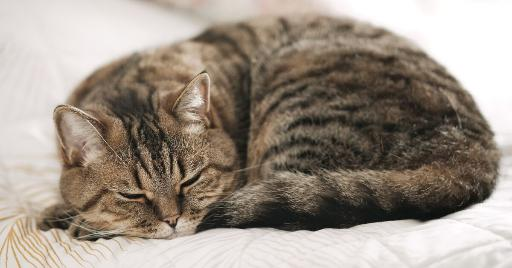cat_sleeping: (39, 14, 499, 240)
